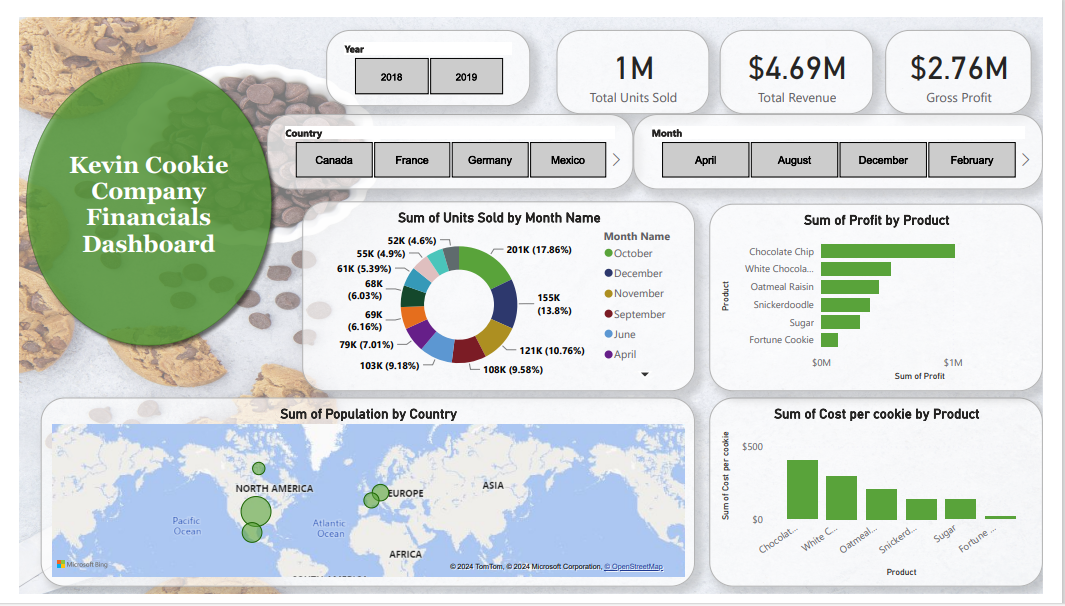

The dashboard page shown, as its layout file describes it:
{"tool":"powerbi","page":{"name":"Page 1","canvas":[1280,720],"ordinal":0},"visuals":[{"type":"donutChart","fields":{"Category":["financials.Month Name"],"Y":["Sum(financials.Units Sold)"]},"box":[354.2,230.4,491,236.2],"z":0},{"type":"card","fields":{"Values":["Sum(financials.Profit)"]},"box":[1082.9,15.8,182.9,105.1],"z":1000},{"type":"card","fields":{"Values":["Sum(financials.Revenue)"]},"box":[875.5,15.8,193,105.1],"z":2000},{"type":"card","fields":{"Values":["Sum(financials.Units Sold)"]},"box":[672.5,15.8,190.1,105.1],"z":3000},{"type":"columnChart","fields":{"Category":["financials.Product"],"Y":["Sum(financials.Cost per cookie)"]},"box":[862.6,475.2,417.6,236.2],"z":4000},{"type":"slicer","fields":{"Values":["financials.Country"]},"box":[309.6,121,457.9,93.6],"z":5000},{"type":"slicer","fields":{"Values":["financials.Year"]},"box":[384.5,15.8,254.9,95],"z":6000},{"type":"slicer","fields":{"Values":["financials.Month Name"]},"box":[767.5,121,512.6,93.6],"z":7000},{"type":"barChart","fields":{"Category":["financials.Product"],"Y":["Sum(financials.Profit)"]},"box":[862.6,233.3,417.6,233.3],"z":8000},{"type":"shape","box":[0,47.5,324,371.5],"z":9000},{"type":"map","fields":{"Category":["financials.Country"],"Size":["Sum(financials.Population)"]},"box":[27.4,475.2,817.9,236.2],"z":10000}]}

Visuals, with their boxes in screenshot pixels (x1, y1, x2, y2), scaled from the page's 1280x720 canvas onto the 1065x606 screenshot:
donutChart - financials.Month Name x Sum(financials.Units Sold): (x1=295, y1=194, x2=703, y2=393)
card - Sum(financials.Profit): (x1=901, y1=13, x2=1053, y2=102)
card - Sum(financials.Revenue): (x1=728, y1=13, x2=889, y2=102)
card - Sum(financials.Units Sold): (x1=560, y1=13, x2=718, y2=102)
columnChart - financials.Product x Sum(financials.Cost per cookie): (x1=718, y1=400, x2=1064, y2=599)
slicer - financials.Country: (x1=258, y1=102, x2=639, y2=181)
slicer - financials.Year: (x1=320, y1=13, x2=532, y2=93)
slicer - financials.Month Name: (x1=639, y1=102, x2=1064, y2=181)
barChart - financials.Product x Sum(financials.Profit): (x1=718, y1=196, x2=1064, y2=393)
shape: (x1=0, y1=40, x2=270, y2=353)
map - financials.Country x Sum(financials.Population): (x1=23, y1=400, x2=703, y2=599)
